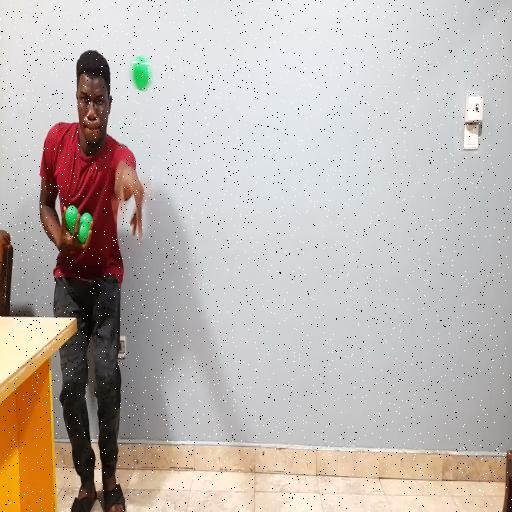plastic-ball: (131, 56, 149, 91)
